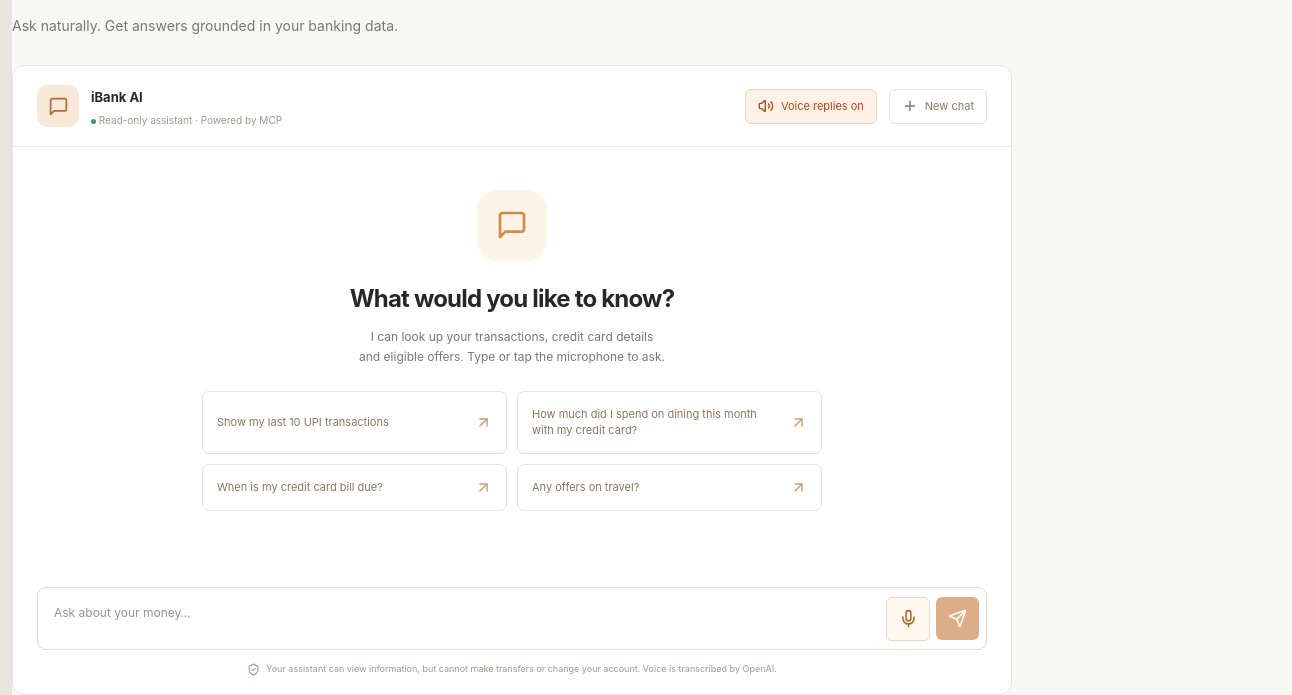
Test: voice question is transcribed, answered through chat and read aloud
This screenshot has width=1292, height=695.
(page scrolled)
Click the button named "Ask by voice".
click(908, 619)  # box left=886, top=597, right=930, bottom=641
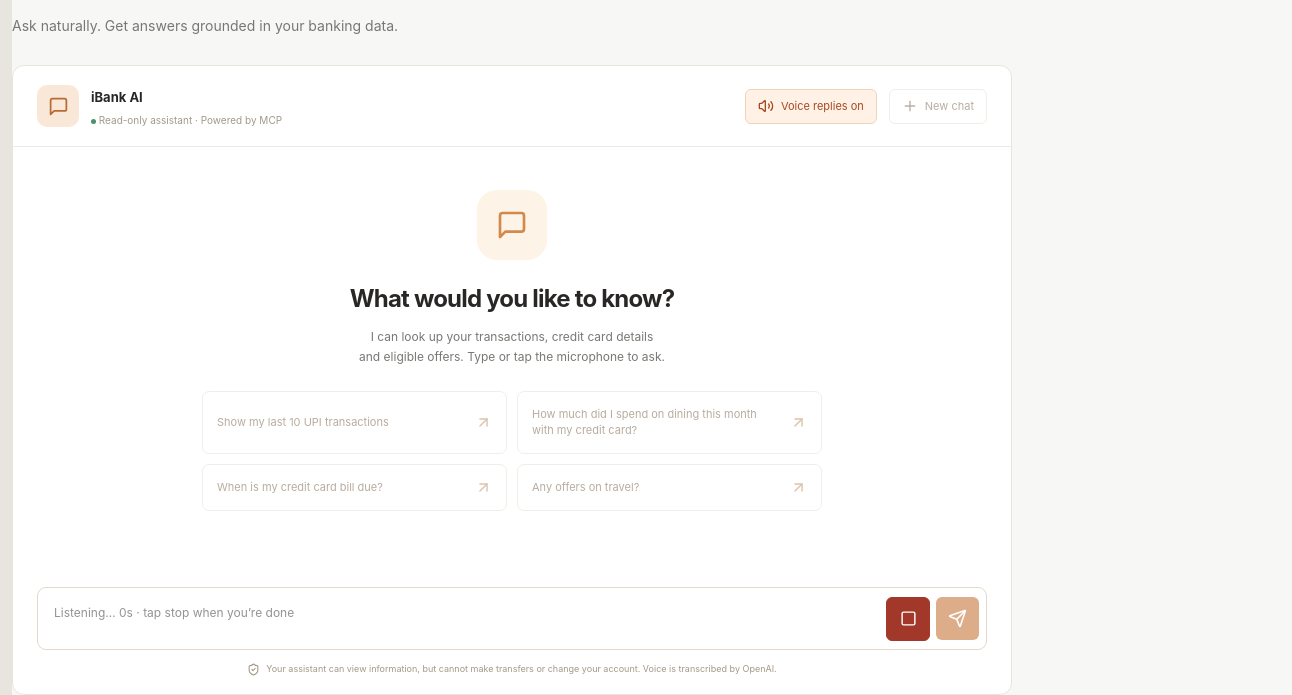
Click the button named "Stop recording".
click(908, 619)  # box left=886, top=597, right=930, bottom=641
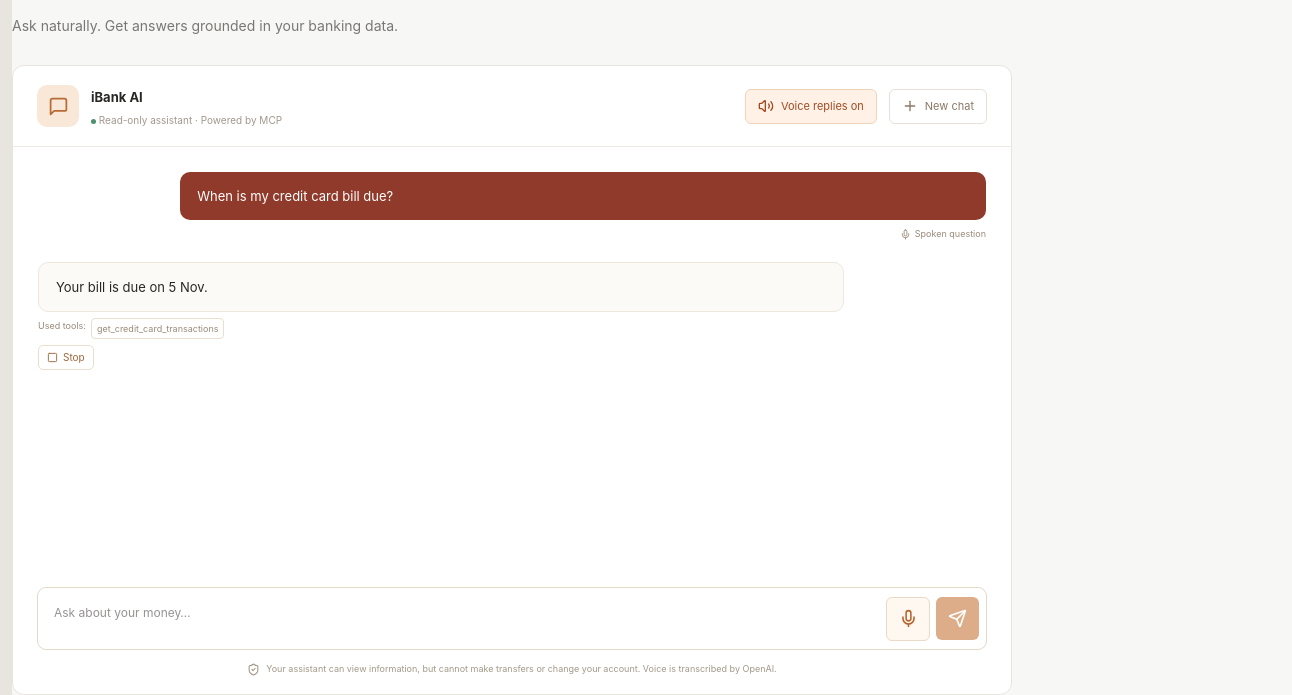
Result: the text "Your bill is due on 5 Nov." is shown at left=56, top=279, right=208, bottom=295
Result: the text "Spoken question" is shown at left=900, top=228, right=986, bottom=240
Result: the button with aria-label "Stop reading aloud" is shown at left=38, top=345, right=94, bottom=370
